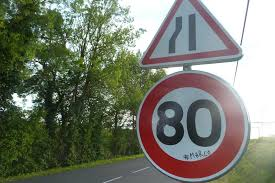Speed_limit_80km: (137, 71, 250, 181)
